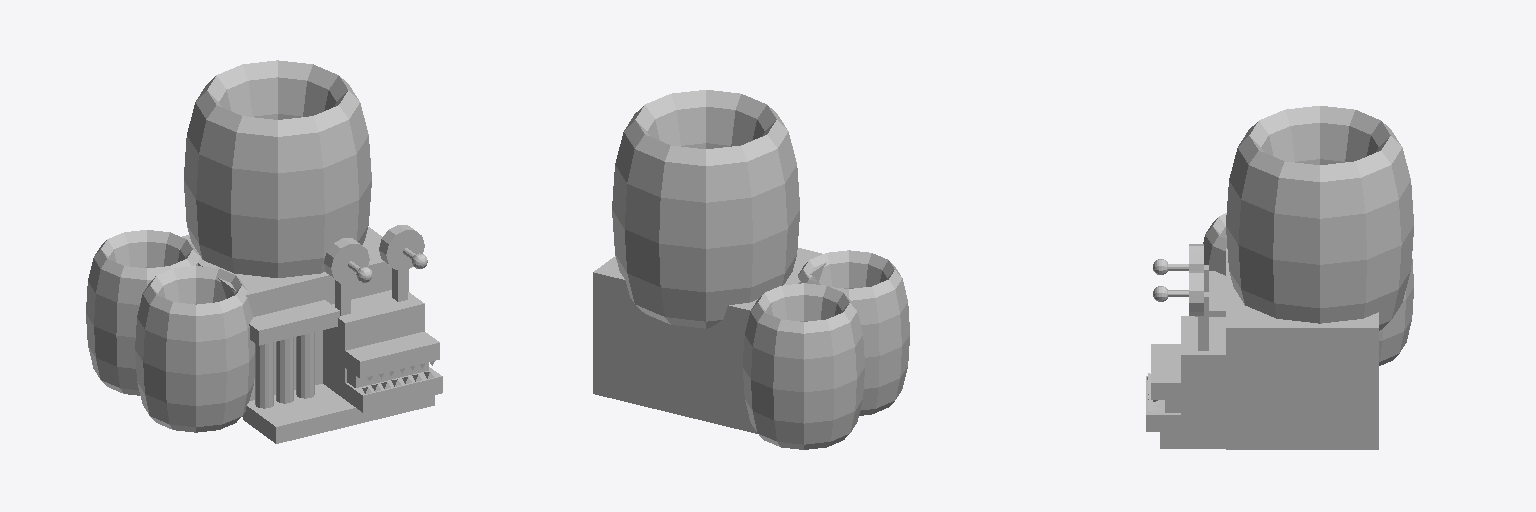
Rendered from Death.obj.
3 renders of one model, left to right at view 1: azimuth 30°, elevation 25°; view 2: azimuth 150°, elevation 25°; view 3: azimuth 270°, elevation 25°, orthographic.
Parts seen in each view (by area): view 1: group[number redacted], group[number redacted], group[number redacted], group[number redacted], group[number redacted], group[number redacted], group[number redacted], group[number redacted], group[number redacted], group[number redacted], group[number redacted]; view 2: group[number redacted], group[number redacted], group[number redacted], group[number redacted]; view 3: group[number redacted], group[number redacted], group[number redacted], group[number redacted], group[number redacted], group[number redacted], group[number redacted], group[number redacted], group[number redacted], group[number redacted].
Part boxes in pixels (left/top/right/bottom): group[number redacted]: left=184, top=60, right=371, bottom=277; group[number redacted]: left=135, top=266, right=254, bottom=432; group[number redacted]: left=243, top=290, right=434, bottom=443; group[number redacted]: left=86, top=230, right=200, bottom=395; group[number redacted]: left=179, top=227, right=408, bottom=416; group[number redacted]: left=345, top=332, right=439, bottom=380; group[number redacted]: left=249, top=300, right=339, bottom=345; group[number redacted]: left=345, top=367, right=442, bottom=412; group[number redacted]: left=324, top=238, right=372, bottom=283; group[number redacted]: left=379, top=225, right=427, bottom=270; group[number redacted]: left=347, top=362, right=428, bottom=387; group[number redacted]: left=612, top=90, right=799, bottom=328; group[number redacted]: left=743, top=283, right=864, bottom=449; group[number redacted]: left=593, top=248, right=826, bottom=433; group[number redacted]: left=798, top=250, right=909, bottom=415; group[number redacted]: left=1226, top=106, right=1413, bottom=330; group[number redacted]: left=1226, top=248, right=1378, bottom=449; group[number redacted]: left=1160, top=316, right=1225, bottom=448; group[number redacted]: left=1151, top=344, right=1188, bottom=401; group[number redacted]: left=1379, top=259, right=1413, bottom=365; group[number redacted]: left=1203, top=213, right=1226, bottom=275; group[number redacted]: left=1146, top=373, right=1182, bottom=431; group[number redacted]: left=1153, top=271, right=1203, bottom=315; group[number redacted]: left=1195, top=271, right=1225, bottom=316; group[number redacted]: left=1153, top=244, right=1203, bottom=274.
Size of the model in its own units: 1.23 by 1.32 by 1.14.